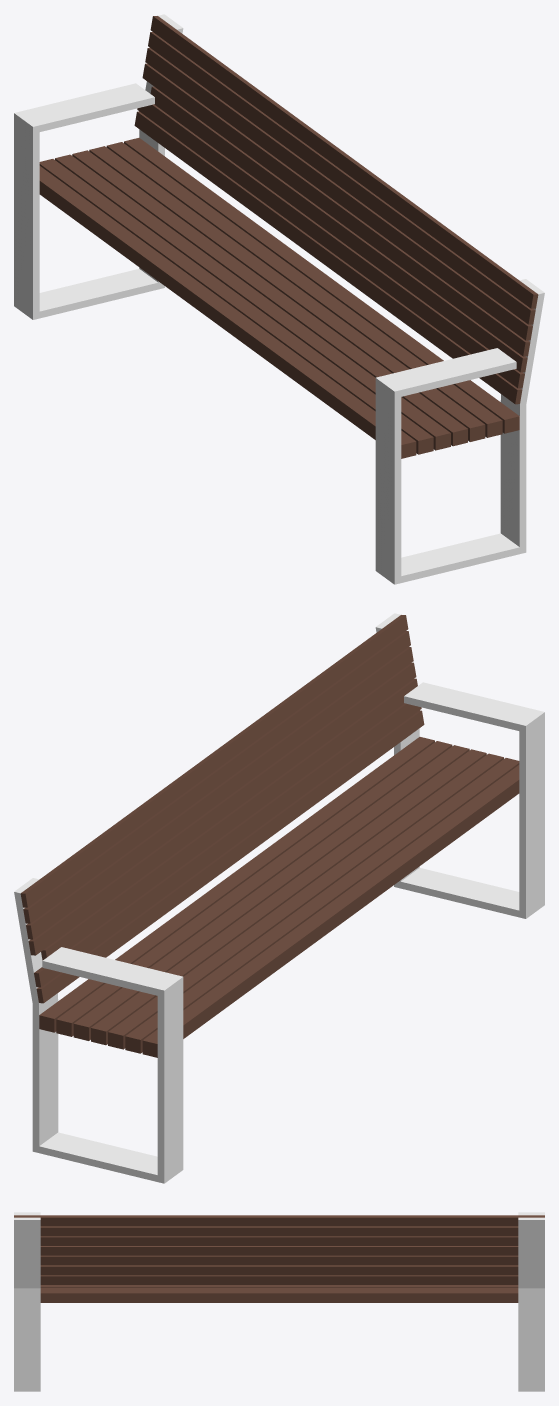
Rendered from Bench03.fbx.
3 views of the same model, one above another, from view 1: azimuth 30°, elevation 25°; view 2: azimuth 150°, elevation 25°; view 3: azimuth 270°, elevation 25° (orthographic). The views are drawn at different scales.
Parts seen in each view (by area): view 1: Model; view 2: Model; view 3: Model.
Part boxes in pixels (x1=…): Model: x1=14, y1=14, x2=544, y2=584; Model: x1=14, y1=613, x2=544, y2=1183; Model: x1=14, y1=1212, x2=544, y2=1391.
Bounding box in the file's own units: 0.4564 × 0.7428 × 2.
